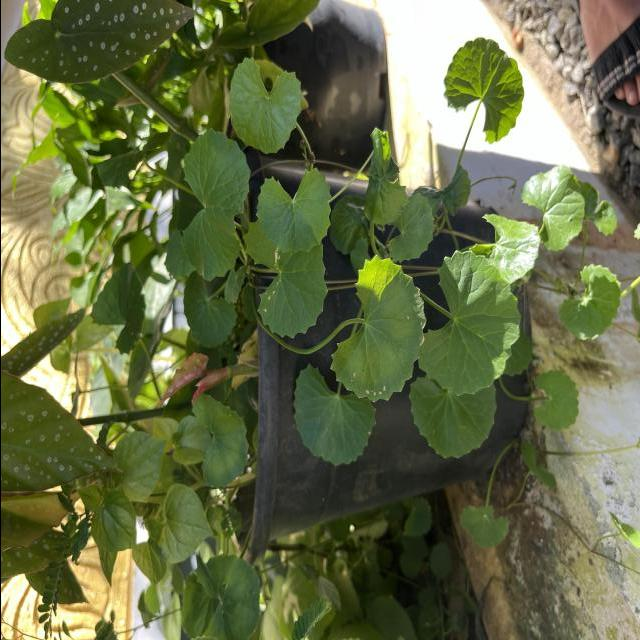Centella asiatica: (414, 248, 522, 398), (328, 254, 428, 404), (180, 124, 252, 284), (226, 55, 302, 156), (254, 166, 332, 254)
